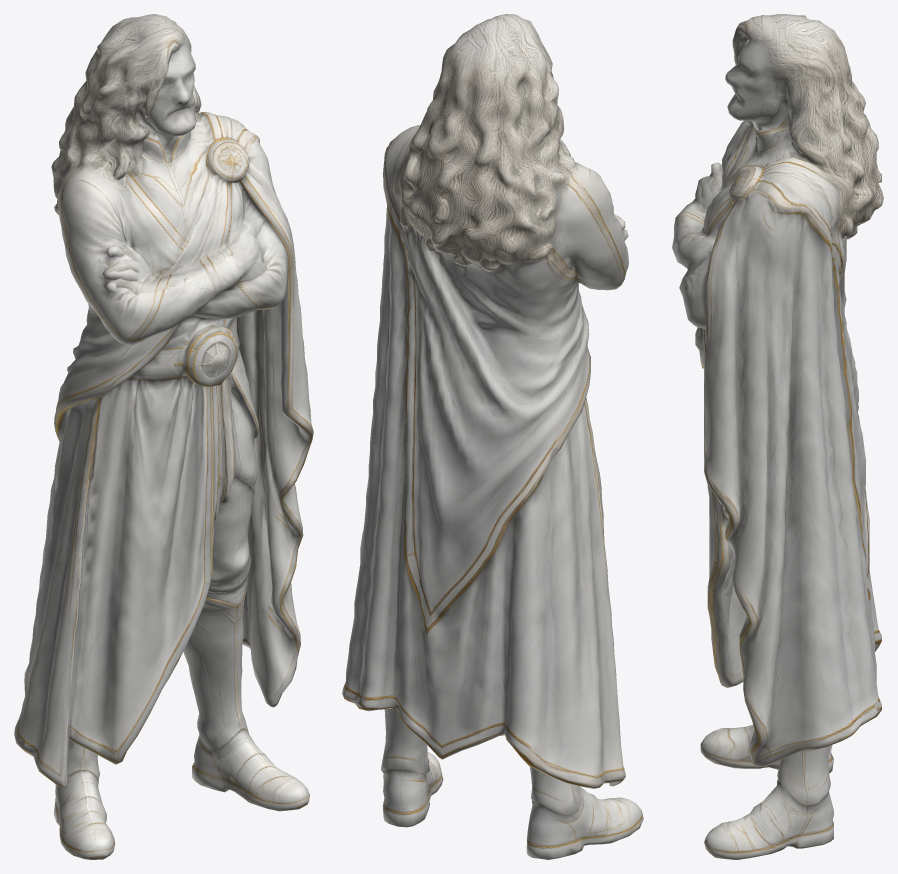
File: TotemIsra.glb
3 views of the same model, side by side, from view 1: azimuth 30°, elevation 25°; view 2: azimuth 150°, elevation 25°; view 3: azimuth 270°, elevation 25° (orthographic). The views are drawn at different scales.
Size of the model in its own units: 0.638 by 1.91 by 0.4658.
Materials: 1 (1 with a texture image).
